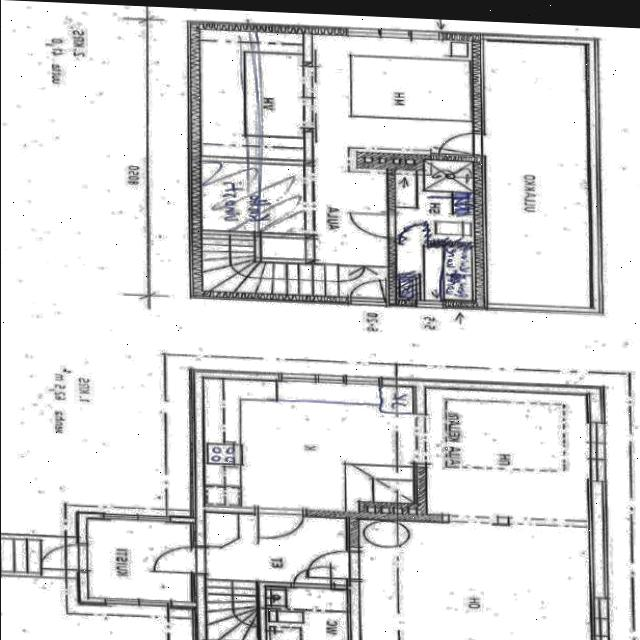room: (197, 378, 419, 515), (481, 38, 591, 309), (360, 520, 590, 640), (420, 388, 593, 520), (198, 28, 304, 162), (395, 159, 473, 302), (202, 513, 350, 586), (86, 519, 199, 604), (197, 161, 307, 234), (265, 586, 347, 640)
